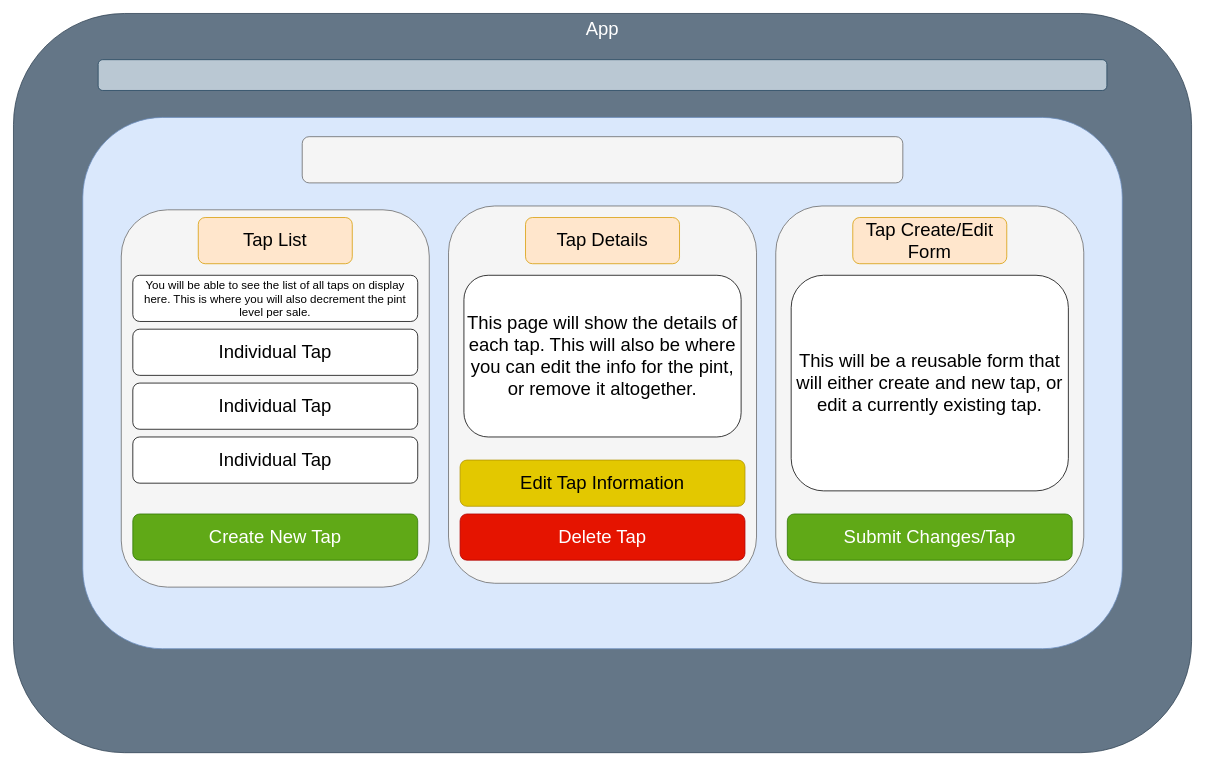
Image size: 1205x766. Some labels were removed from this diagram. Each missing label, with the centre of its shape:
"Header" belongs at (602,74).
"Tap Room Control" belongs at (602,159).
